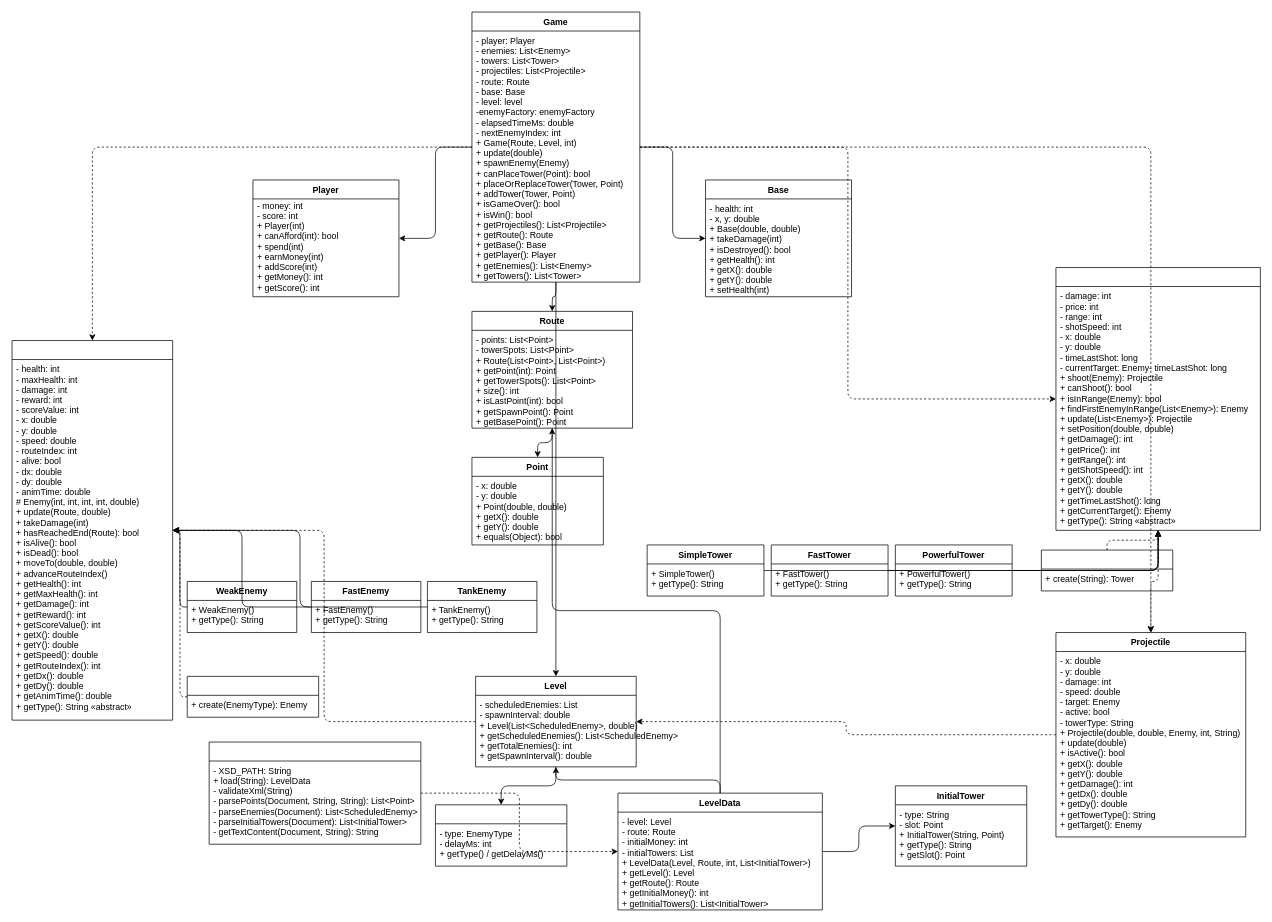
Image size: 1272x922. Some labels were removed from this diagram. The box of each missing label's shape, as (x1, y1, x2, y2) in pixels:
EnemyFactory: (187, 676, 319, 717)
LevelLoader: (208, 741, 421, 844)
ScheduledEnemy: (435, 804, 567, 866)
TowerFactory: (1041, 549, 1173, 591)
«abstract» Enemy: (11, 340, 173, 720)
«abstract» Tower: (1055, 267, 1260, 530)
